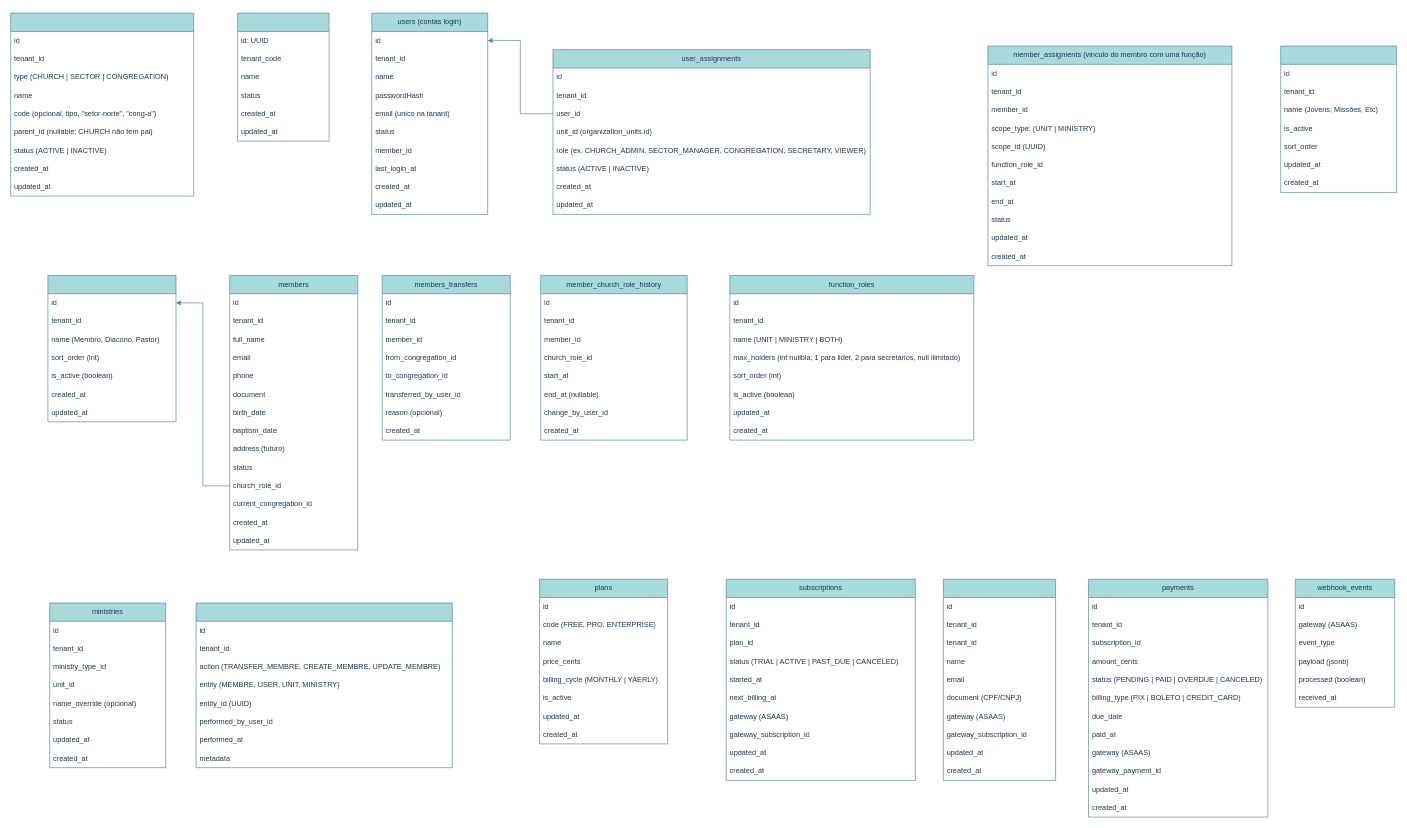
The diagram is 1407 pixels wide and 828 high, and some of its shapes have lost their labels. Each missing label, with the box of its shape:
audit_logs: (196, 602, 452, 768)
church_roles: (47, 275, 176, 422)
customers: (943, 579, 1056, 780)
ministry_types: (1280, 45, 1397, 192)
mon: (237, 13, 329, 141)
organizations_units: (10, 13, 194, 196)
